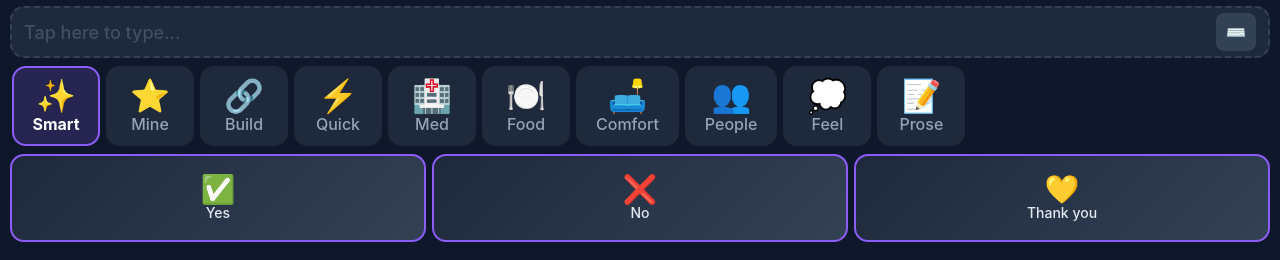
TalkScreen integration › fills speech bar when a phrase button is tapped
The width and height of the screenshot is (1280, 260).
Click the text "Yes" at (218, 212), box [206,204,230,221]
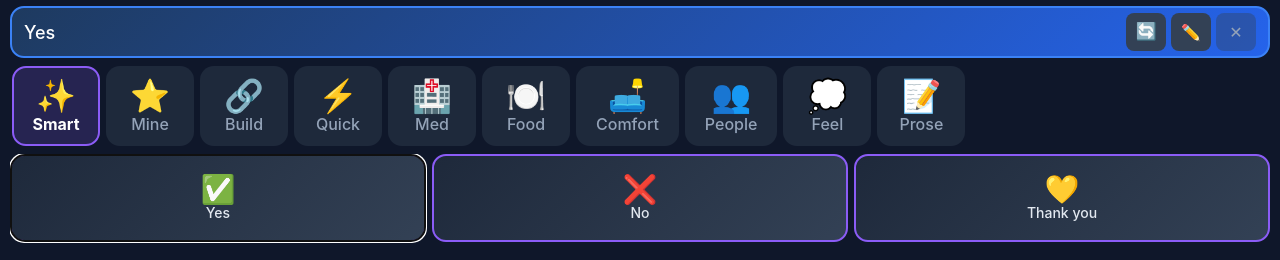
Check: the field showing "Yes" is shown, box [24,18,1118,46]
